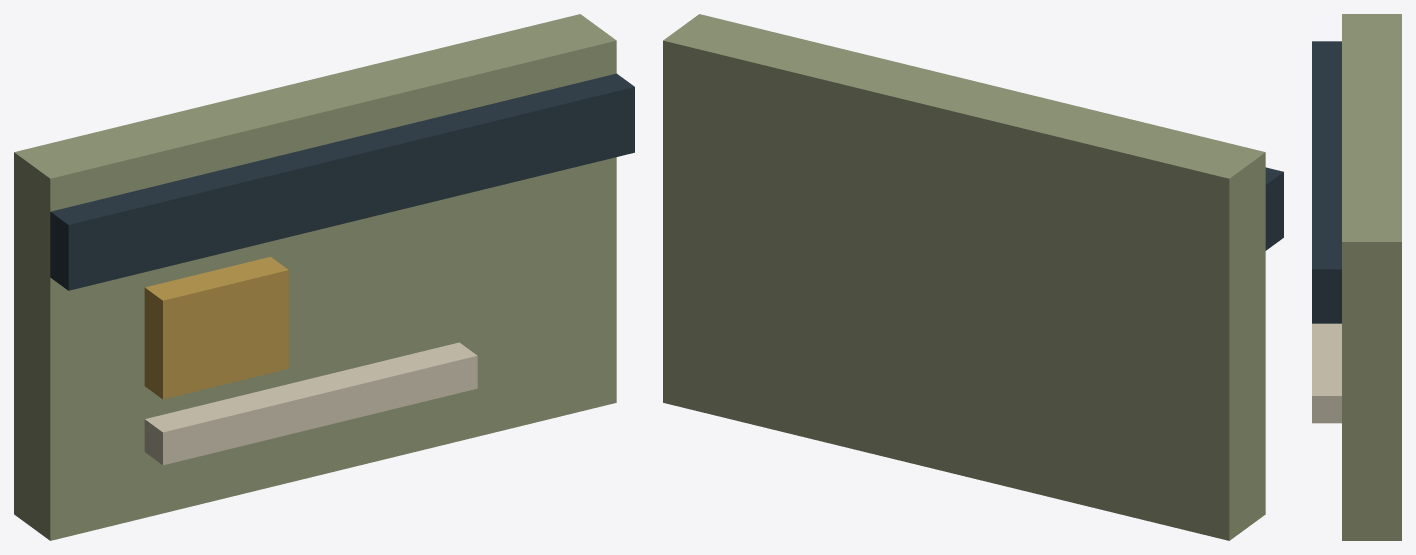
File: property-18.glb
3 views of the same model, side by side, from view 1: azimuth 30°, elevation 25°; view 2: azimuth 150°, elevation 25°; view 3: azimuth 270°, elevation 25° (orthographic). The views are drawn at different scales.
Parts seen in each view (by area): view 1: Contract folder; view 2: Contract folder; view 3: Contract folder.
Part boxes in pixels (<box>): Contract folder: <box>14,14,634,540</box>; Contract folder: <box>663,14,1283,540</box>; Contract folder: <box>1312,14,1401,540</box>.
Bounding box in the file's own units: 1.44 × 0.88 × 0.24.
